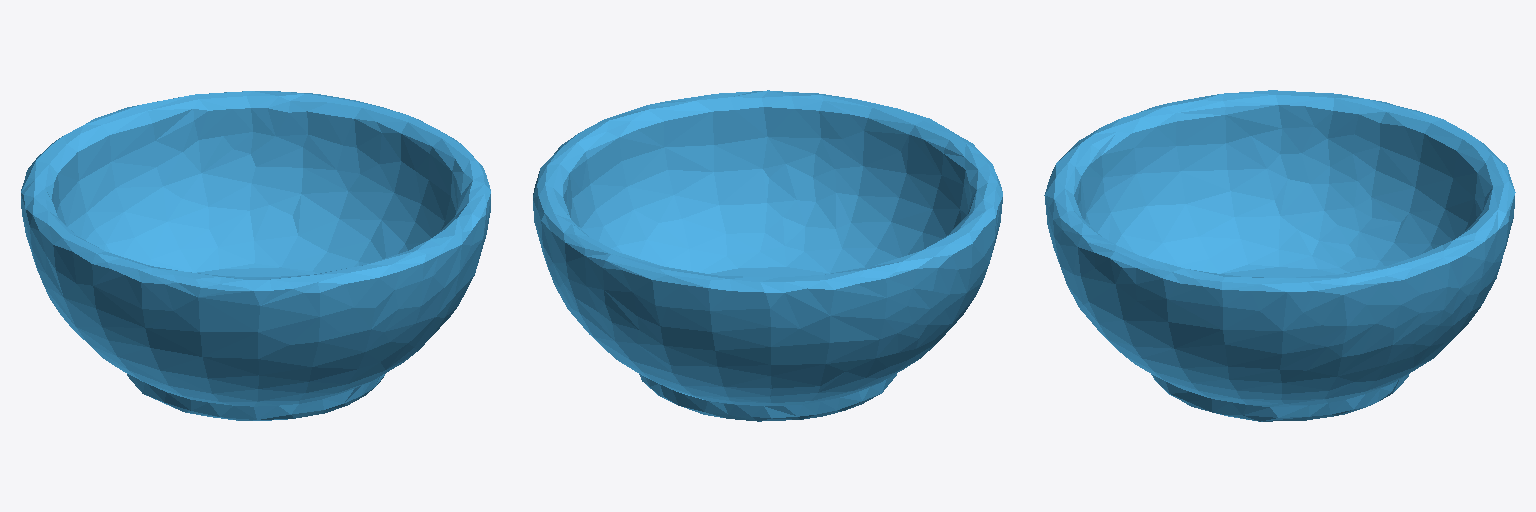
The robot description file, URDF, robot "Bowl_8eab5598b81afd7bab5b523beb03efcd_M":
<?xml version="1.0"?>
<robot name="Bowl_8eab5598b81afd7bab5b523beb03efcd_M">
  <link name="base"/>
  <link name="link_0">
  <visual>
    <origin xyz="0.0 0.0 0.0"/>
    <geometry>
      <mesh filename="Bowl_8eab5598b81afd7bab5b523beb03efcd_M.obj" scale="1.0 1.0 1.0"/>
    </geometry>
  </visual>
  <collision>
    <origin xyz="0.0 0.0 0.0"/>
    <geometry>
      <mesh filename="collision.obj" scale="1.0 1.0 1.0"/>
    </geometry>
  </collision>
  </link>
  <joint name="joint_0" type="fixed">
    <origin rpy="0 0 0" xyz="0 0 0"/>
    <child link="link_0"/>
    <parent link="base"/>
  </joint>
</robot>

--- Render facts (derived) ---
Views: 3 orthographic renders of the robot side by side, from view 1: azimuth 30°, elevation 25°; view 2: azimuth 150°, elevation 25°; view 3: azimuth 270°, elevation 25°.
Robot: Bowl_8eab5598b81afd7bab5b523beb03efcd_M — 2 links, 1 joints (1 fixed); root link base; default pose: every joint at zero.
Visible links, largest first — view 1: link_0; view 2: link_0; view 3: link_0.
Boxes of the visible links, x1=… form: link_0: x1=21, y1=91, x2=490, y2=420; link_0: x1=533, y1=90, x2=1002, y2=421; link_0: x1=1044, y1=90, x2=1515, y2=421.
Bounding box of the posed robot: 0.1608 × 0.1608 × 0.0693 m (x, y, z).
Meshes: 1 distinct files referenced, 1 mesh visuals loaded (1 OBJ).